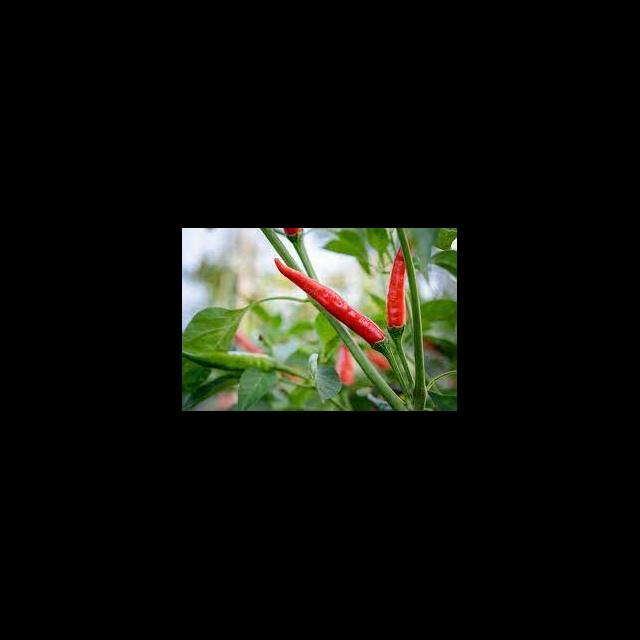chili_pepper: (274, 258, 386, 348), (183, 351, 278, 372), (386, 252, 408, 328)
